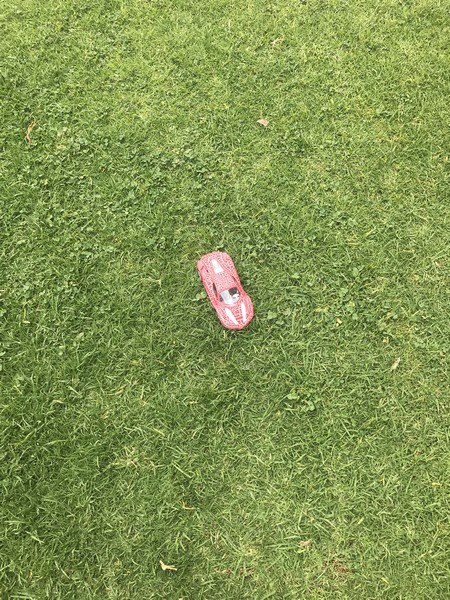RC: (194, 250, 257, 333)
